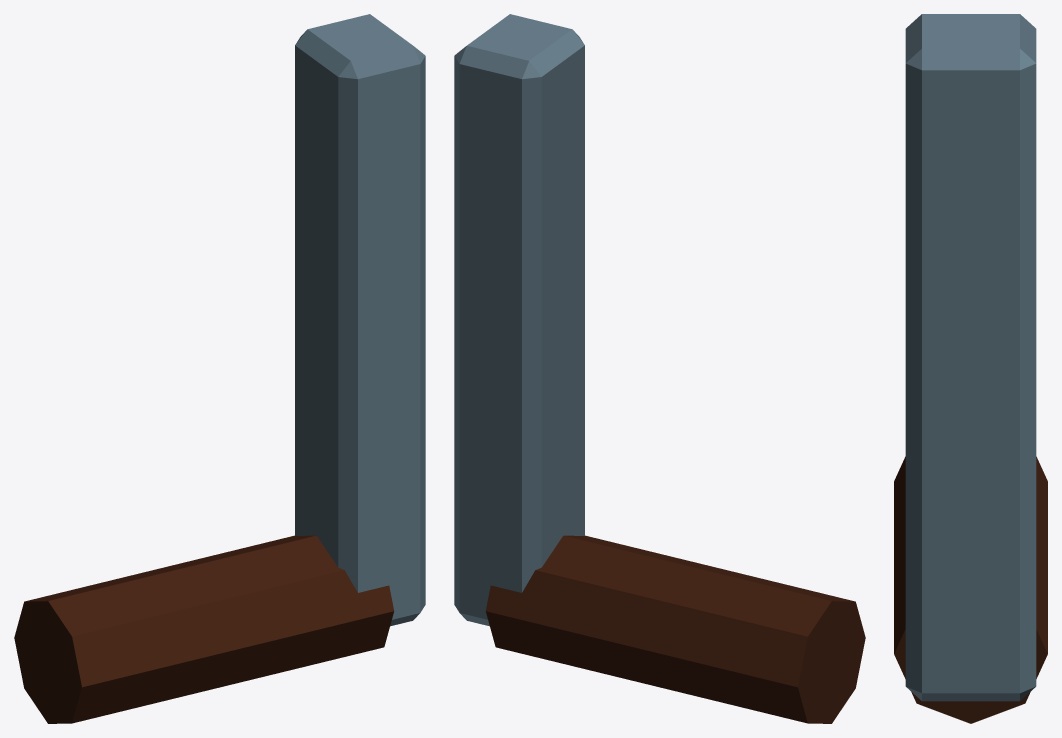
File: D24_Winch_Crank.fbx
3 renders of one model, left to right at view 1: azimuth 30°, elevation 25°; view 2: azimuth 150°, elevation 25°; view 3: azimuth 270°, elevation 25°, orthographic. The views are drawn at different scales.
Visible parts, largest first — view 1: D24_Winch_Crank; view 2: D24_Winch_Crank; view 3: D24_Winch_Crank.
Boxes of the visible parts, x1,y1,x2,y2 form: D24_Winch_Crank: (14,14,425,723); D24_Winch_Crank: (454,14,865,723); D24_Winch_Crank: (894,14,1047,723).
Bounding box in the file's own units: 0.285 × 0.467 × 0.094.
Materials: 2 (2 with a texture image).
